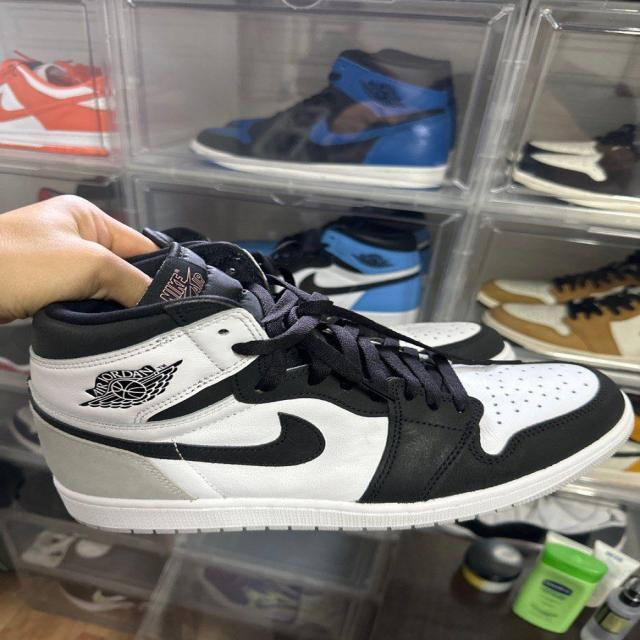nike original jordan 1: (25, 243, 635, 536)
